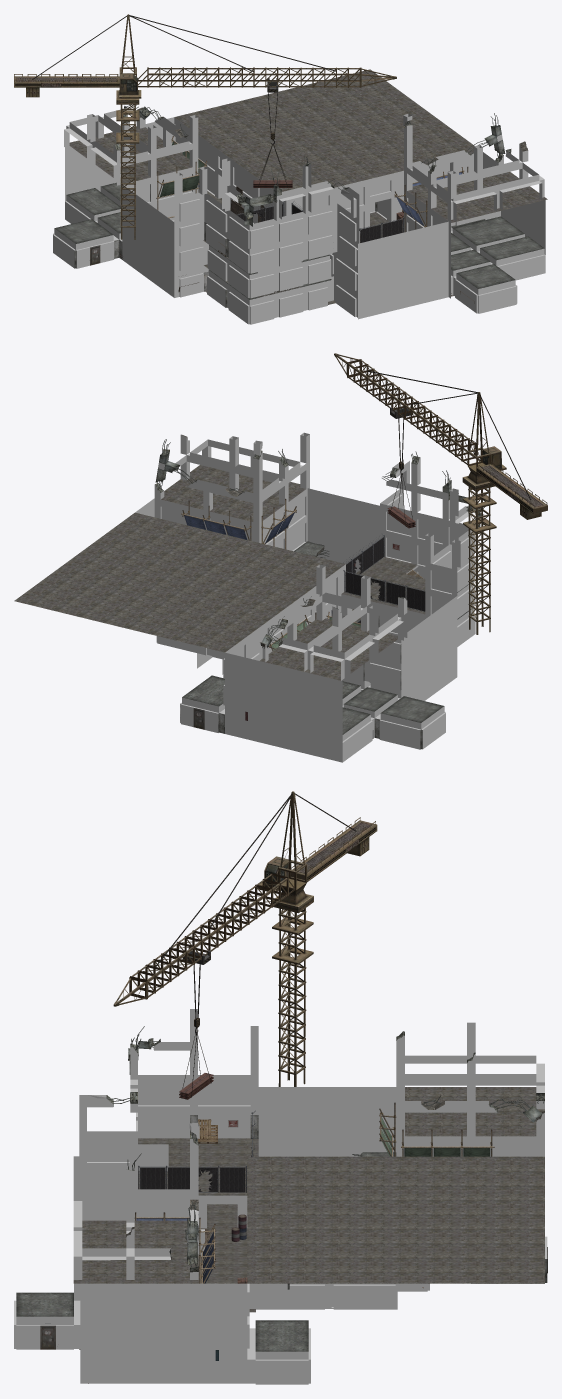
Rendered from Kickpoint_World.obj.
The picture shows the model from 3 angles, top to bottom: view 1: azimuth 30°, elevation 25°; view 2: azimuth 150°, elevation 25°; view 3: azimuth 270°, elevation 25°; orthographic projection. The views are drawn at different scales.
Parts seen in each view (by area): view 1: world, Object; view 2: world, Object; view 3: world, Object.
Part boxes in pixels (box(x1,y1,x2,y2)): world: box(53, 69, 547, 324); Object: box(14, 14, 474, 304); world: box(14, 432, 483, 762); Object: box(181, 353, 547, 738); world: box(14, 1009, 547, 1384); Object: box(40, 791, 547, 1383).
Bounding box in the file's own units: 69.39 × 43.99 × 56.63.
